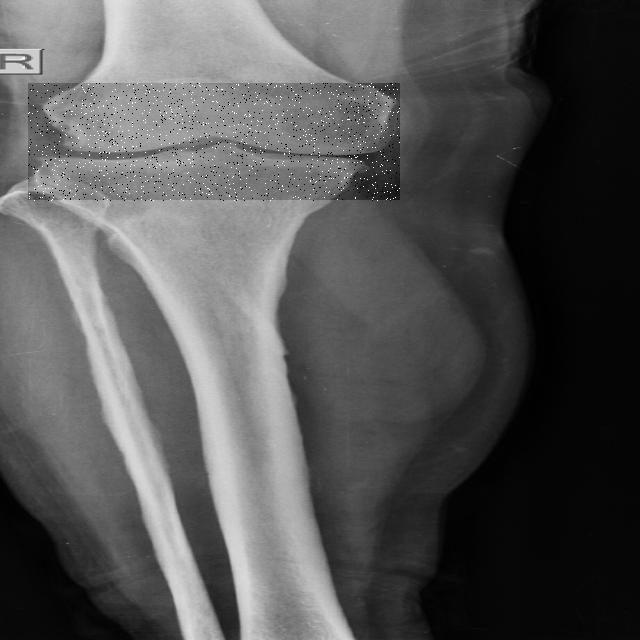normal: (28, 84, 400, 202)
